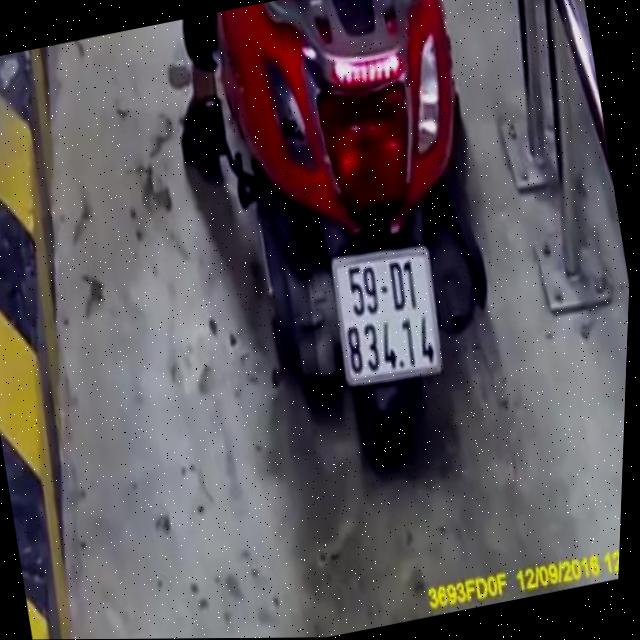motorcycle: (184, 0, 541, 492)
plate: (321, 233, 454, 390)
